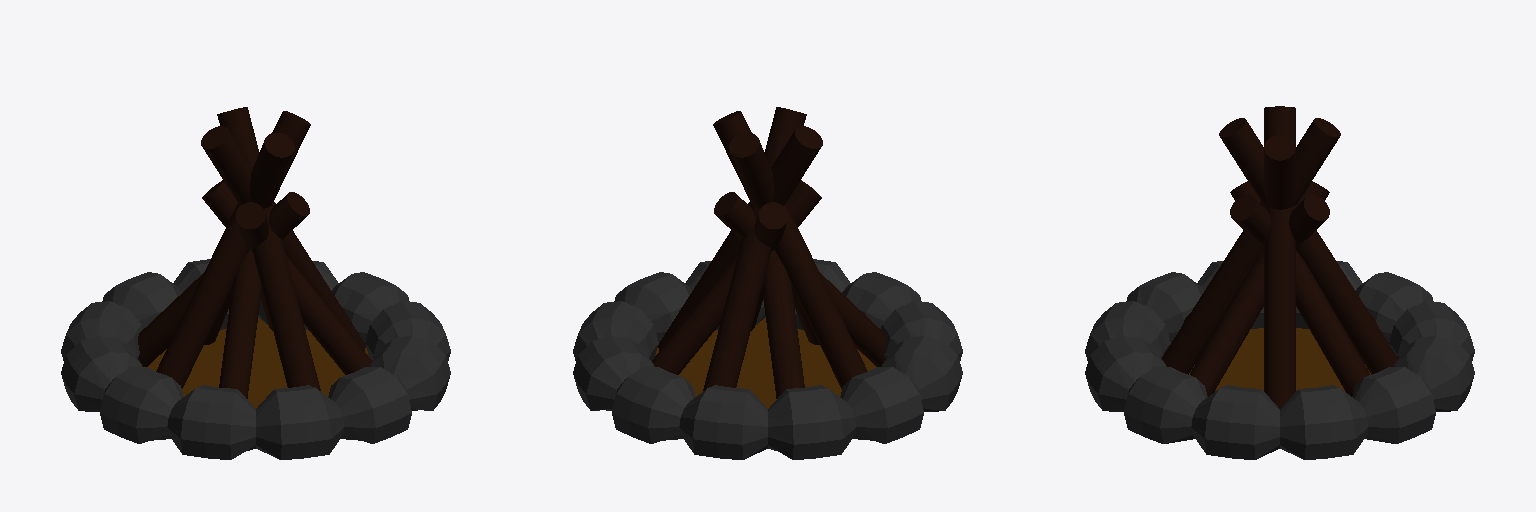
The model's file is campfire.obj.
The picture shows the model from 3 angles: view 1: azimuth 30°, elevation 25°; view 2: azimuth 150°, elevation 25°; view 3: azimuth 270°, elevation 25°; orthographic projection.
Visible parts, largest first — view 1: Torus, Cylinder, Cylinder.003, Circle, Cylinder.001, Cylinder.004, Cylinder.007, Cylinder.006, Cylinder.002, Cylinder.005; view 2: Torus, Cylinder.002, Cylinder.003, Circle, Cylinder.005, Cylinder.004, Cylinder.006, Cylinder.007, Cylinder, Cylinder.001; view 3: Torus, Cylinder.004, Cylinder, Cylinder.002, Cylinder.001, Cylinder.005, Circle, Cylinder.003, Cylinder.006, Cylinder.007.
Boxes of the visible parts, <box> form: Torus: <box>61,259,450,459</box>; Cylinder: <box>217,107,320,390</box>; Cylinder.003: <box>156,111,310,388</box>; Circle: <box>148,317,368,408</box>; Cylinder.001: <box>202,180,371,374</box>; Cylinder.004: <box>201,126,365,350</box>; Cylinder.007: <box>219,250,261,398</box>; Cylinder.006: <box>138,192,309,366</box>; Cylinder.002: <box>204,133,294,344</box>; Cylinder.005: <box>236,202,272,330</box>; Torus: <box>573,259,962,459</box>; Cylinder.002: <box>703,107,806,390</box>; Cylinder.003: <box>713,111,867,388</box>; Circle: <box>655,317,875,408</box>; Cylinder.005: <box>652,180,821,374</box>; Cylinder.004: <box>658,126,822,350</box>; Cylinder.006: <box>762,250,804,398</box>; Cylinder.007: <box>714,192,885,366</box>; Cylinder: <box>729,133,819,344</box>; Cylinder.001: <box>751,202,787,330</box>; Torus: <box>1085,261,1474,459</box>; Cylinder.004: <box>1264,106,1295,408</box>; Cylinder: <box>1162,118,1340,374</box>; Cylinder.002: <box>1219,118,1397,374</box>; Cylinder.001: <box>1190,181,1329,396</box>; Cylinder.005: <box>1230,181,1369,396</box>; Circle: <box>1189,328,1370,390</box>; Cylinder.003: <box>1264,135,1295,209</box>; Cylinder.006: <box>1230,195,1377,325</box>; Cylinder.007: <box>1182,195,1329,325</box>.
Size of the model in its own units: 2.48 by 1.9 by 2.48.